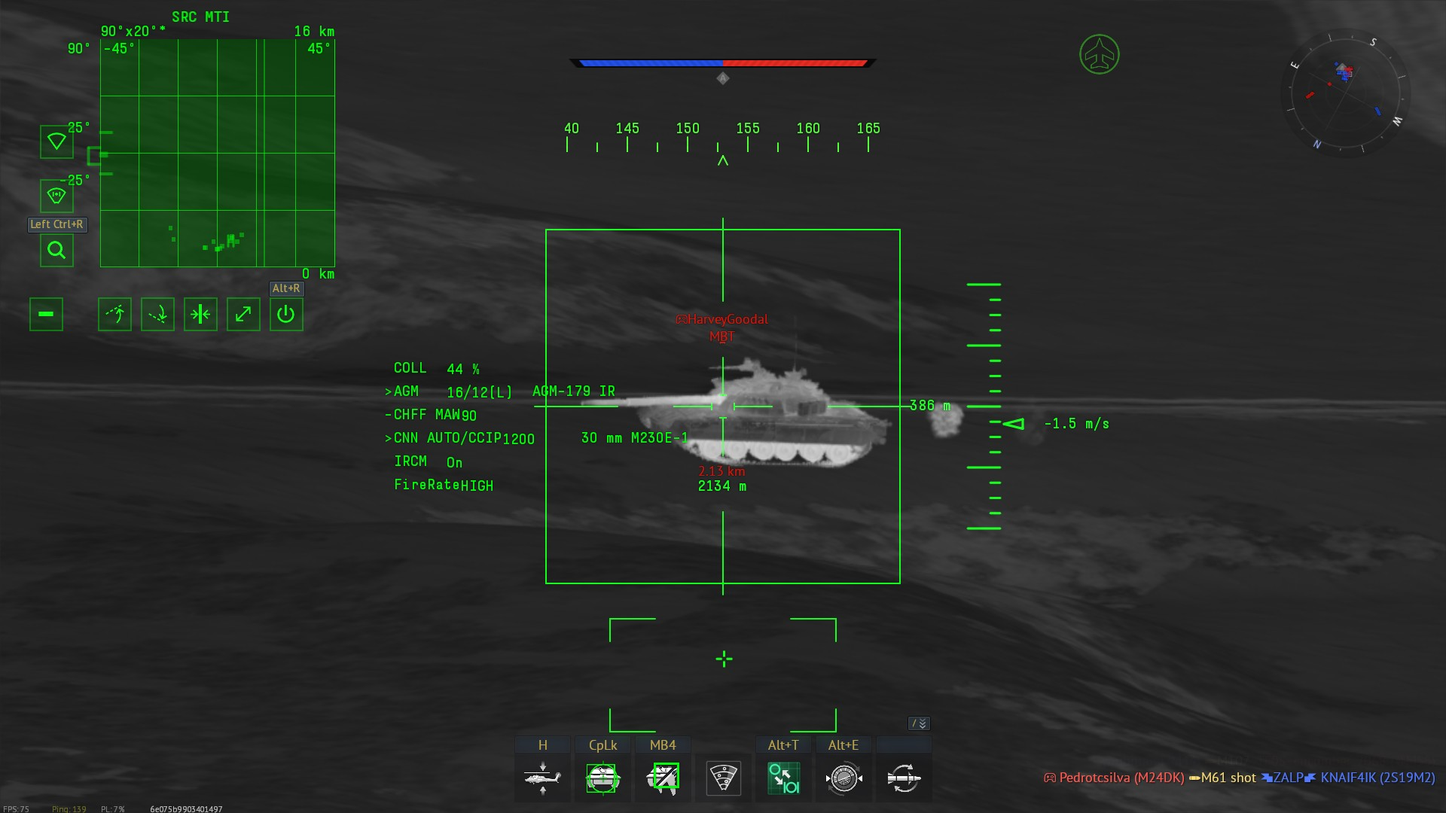t-80u: (579, 356, 890, 468)
